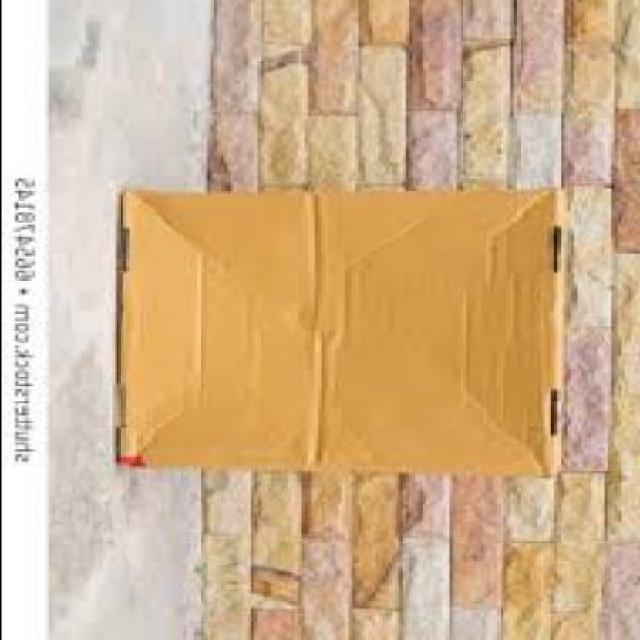CARDBOARD: (118, 191, 570, 480)
